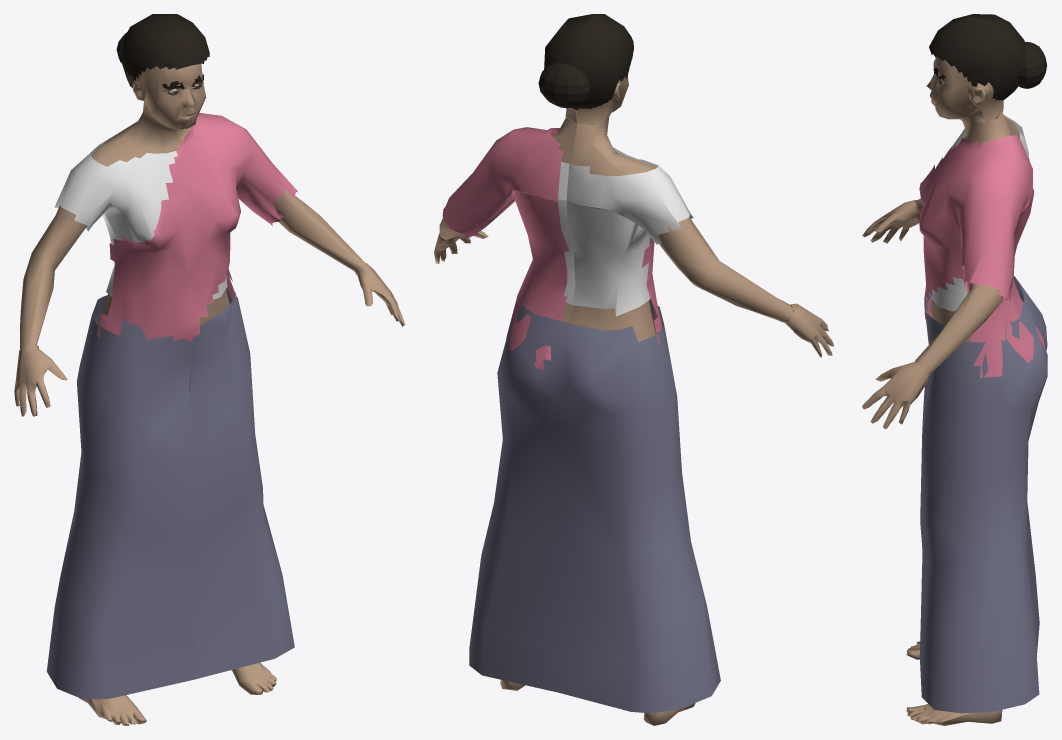
File: woman_01.glb
The picture shows the model from 3 angles, left to right: view 1: azimuth 30°, elevation 25°; view 2: azimuth 150°, elevation 25°; view 3: azimuth 270°, elevation 25°; orthographic projection. The views are drawn at different scales.
Visible parts, largest first — view 1: crowd; view 2: crowd; view 3: crowd.
Part boxes in pixels (<box>): crowd: <box>14,14,405,725</box>; crowd: <box>434,14,833,725</box>; crowd: <box>862,14,1047,725</box>.
Bounding box in the file's own units: 0.9612 × 1.61 × 0.4033.
